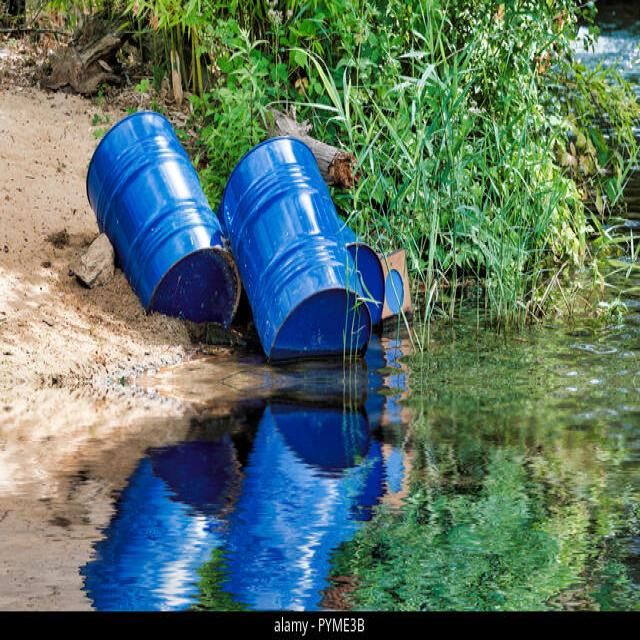metal: (231, 159, 349, 341)
